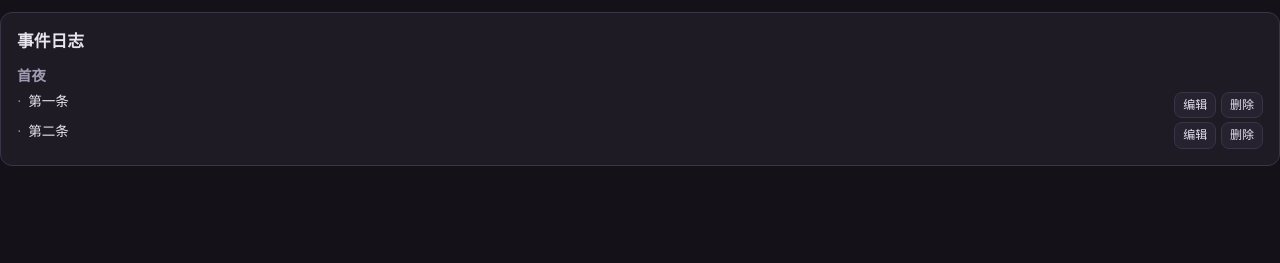
Timeline（F-06b 时间线） › 编辑事件原地更新，不改变顺序、id 与 createdAt
Click the button "编辑" in the row of "第一条".
click(1195, 105)  # box [1174,92,1216,118]
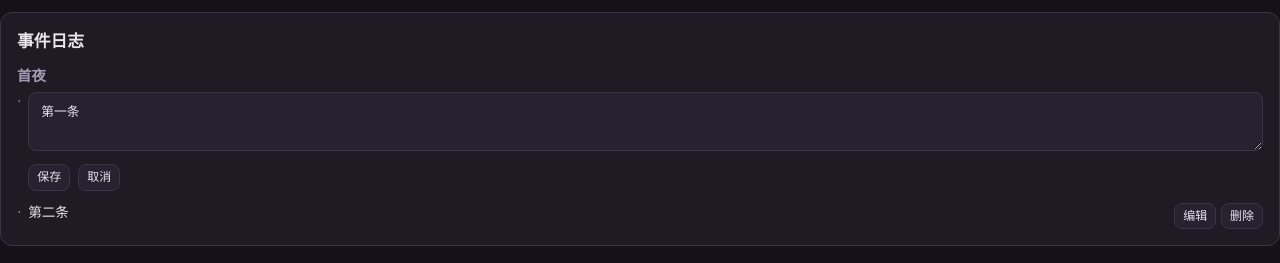
Replace the text in the text box with "第一条已编辑" at x=646, y=122, box [28,92,1263,151]
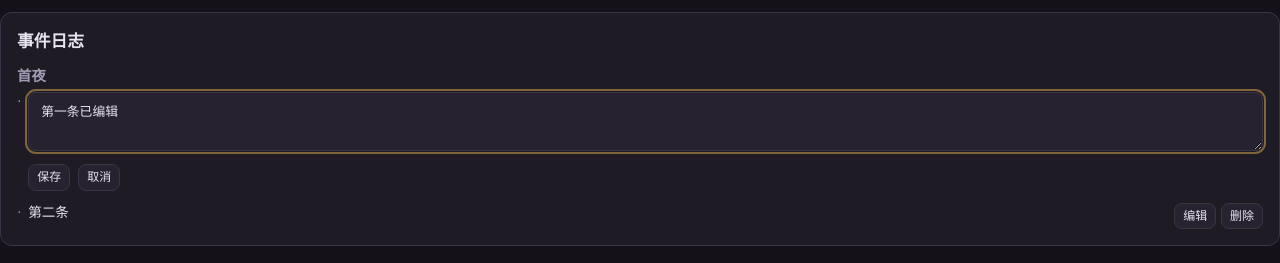
Click the button "保存".
click(49, 177)  # box [28,164,70,191]
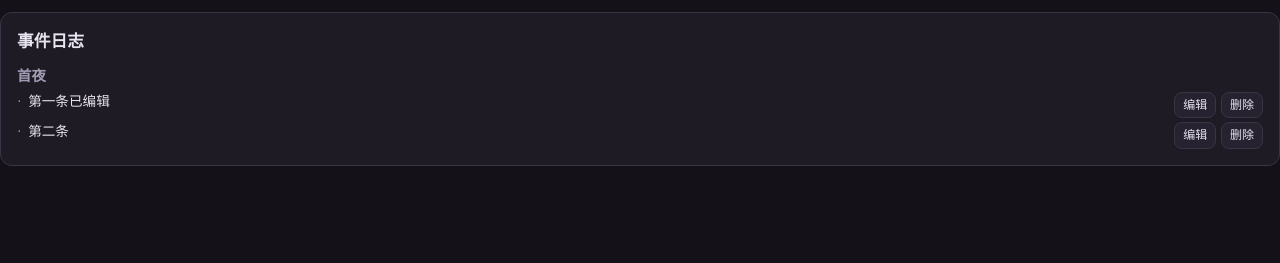
Result: the text "第一条已编辑" is shown at [28,94,110,109]
